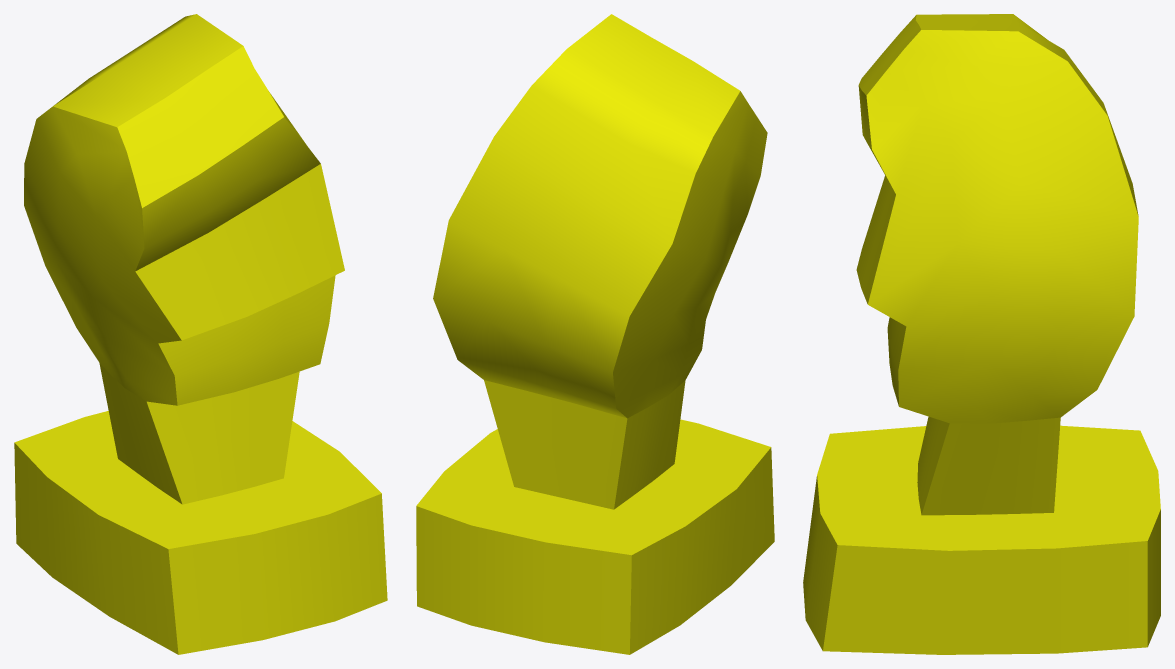
Rendered from Sculpture.fbx.
3 views of the same model, side by side, from view 1: azimuth 30°, elevation 25°; view 2: azimuth 150°, elevation 25°; view 3: azimuth 270°, elevation 25° (orthographic). The views are drawn at different scales.
Parts seen in each view (by area): view 1: Sculpture; view 2: Sculpture; view 3: Sculpture.
Boxes of the visible parts, bbox=[...] form: Sculpture: bbox=[14, 14, 387, 654]; Sculpture: bbox=[416, 14, 774, 654]; Sculpture: bbox=[803, 14, 1160, 654].
Bounding box in the file's own units: 33.53 × 67.4 × 38.23.
